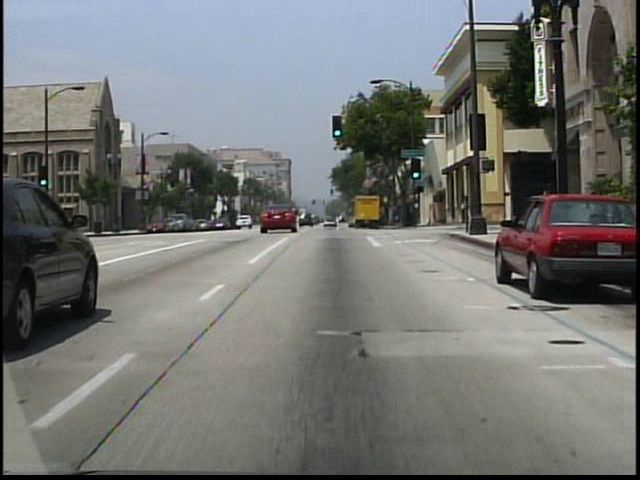person: (461, 199, 467, 226)
